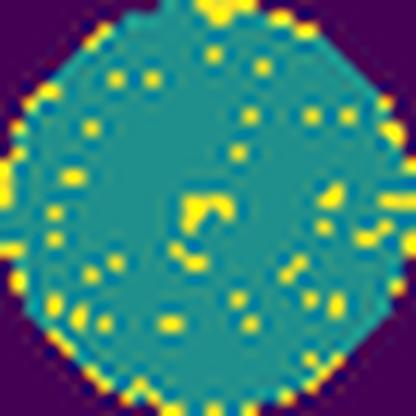Center: (178, 189, 238, 244)
